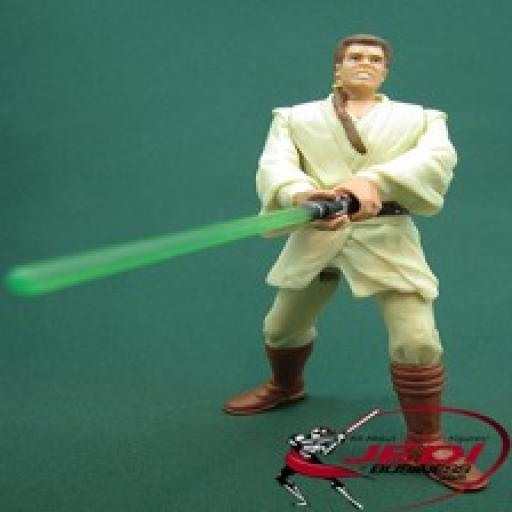human: (206, 23, 492, 493)
lightsaber: (1, 182, 370, 310)
